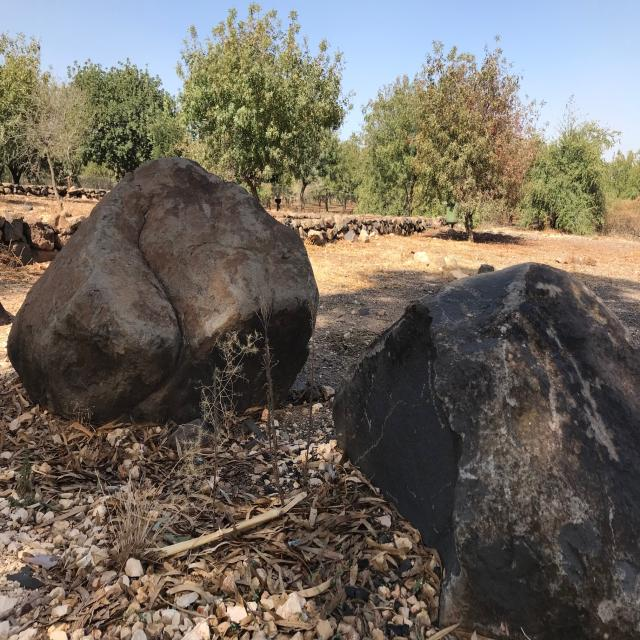Igneous: (329, 261, 640, 639), (12, 154, 318, 436)
